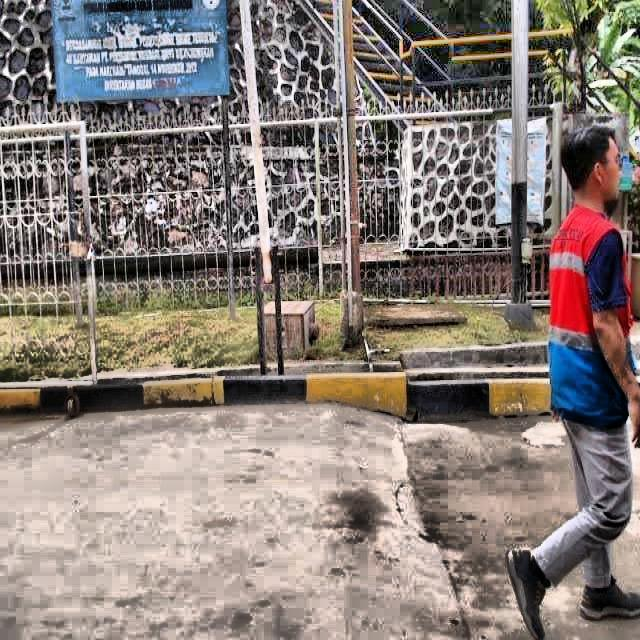safety_jacket: (546, 205, 633, 426)
